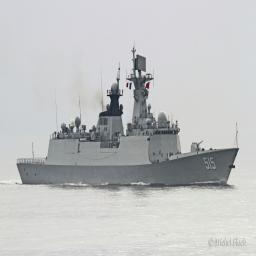Fragata: (15, 37, 242, 191)
